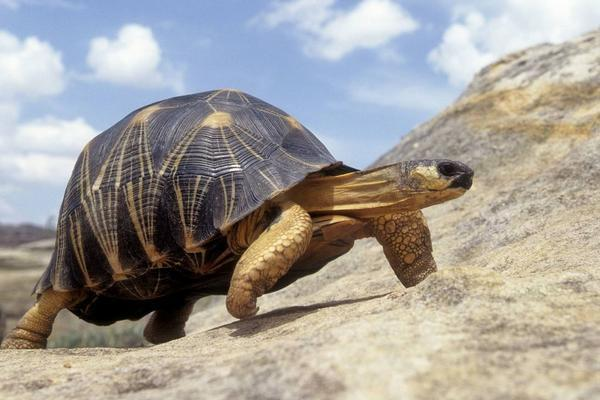tortoise: (1, 87, 476, 359)
